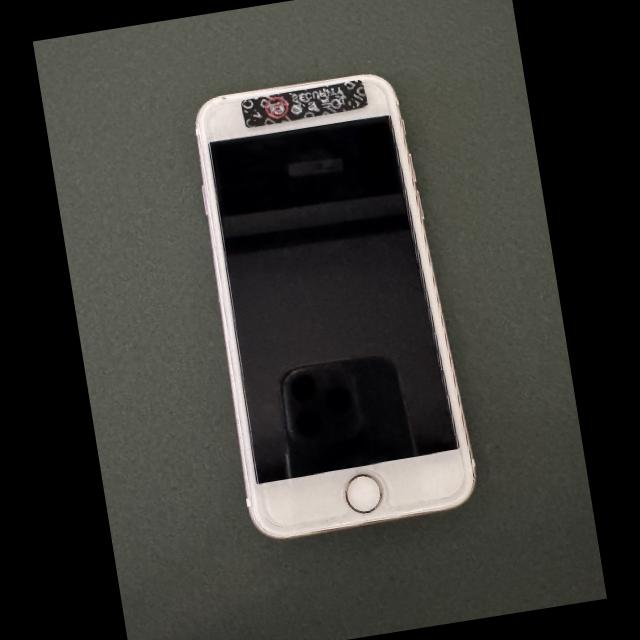phone: (196, 75, 475, 538)
sticker: (242, 80, 367, 128)
